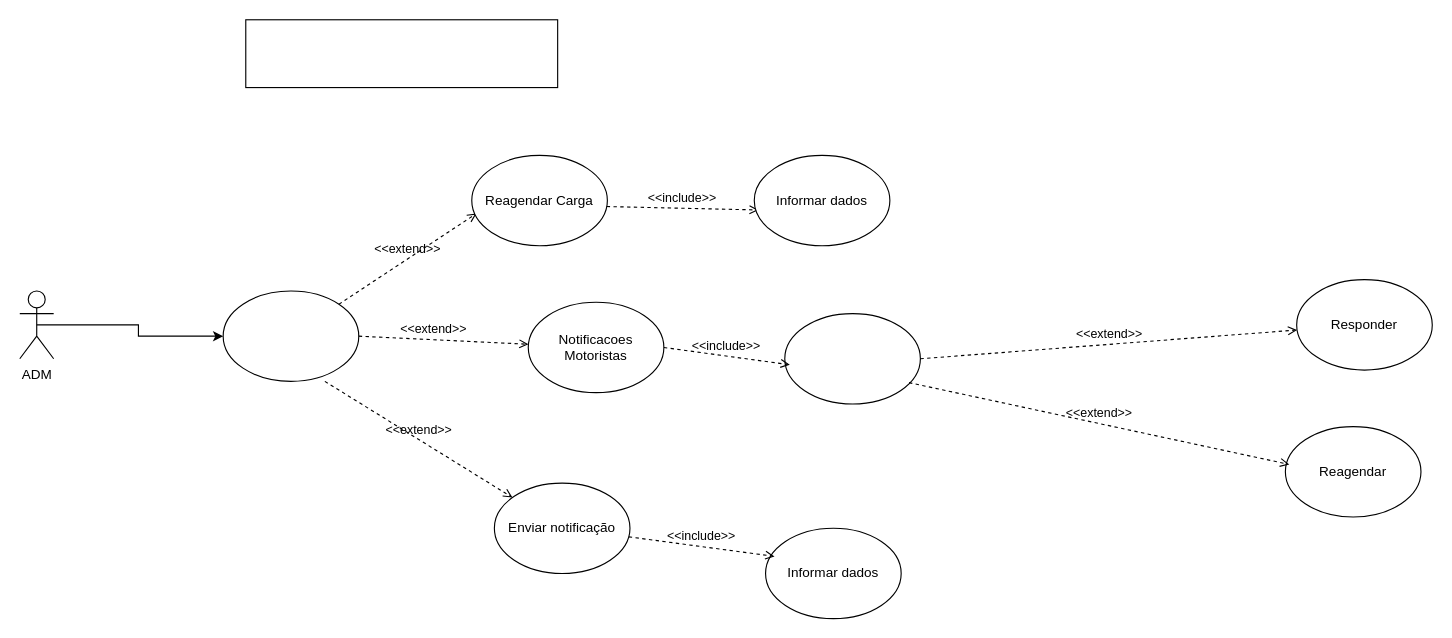
Some shapes in this 1452 by 638 pixel diagram are drawn without their labels. Here are the shapes that lost their labels. From the top down, the centre of each, then its label:
[401,53]: CASO DE USO 6
[290,335]: Acessar "Notificações"
[852,358]: Listagem de notificações
